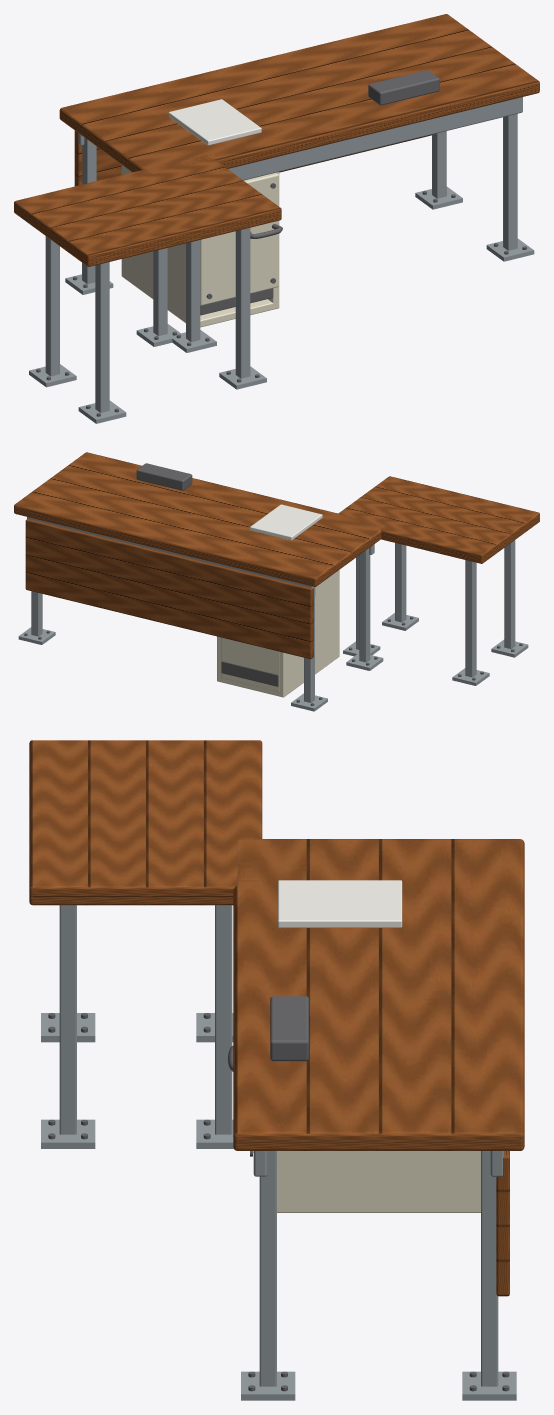
File: prison-complex-builder-warden-desk-8cddfd14__25682.glb
3 views of the same model, one above another, from view 1: azimuth 30°, elevation 25°; view 2: azimuth 150°, elevation 25°; view 3: azimuth 270°, elevation 25° (orthographic). The views are drawn at different scales.
Parts seen in each view (by area): view 1: warden-desk, door-1/paintCream; view 2: warden-desk; view 3: warden-desk.
Part boxes in pixels (x1,y1,x2,y2): warden-desk: (14,14,539,423); door-1/paintCream: (200,172,278,305); warden-desk: (14,452,539,711); warden-desk: (29,740,524,1400).
Size of the model in its own units: 2.4 by 0.84 by 1.27.
6 materials, 1 textured.
